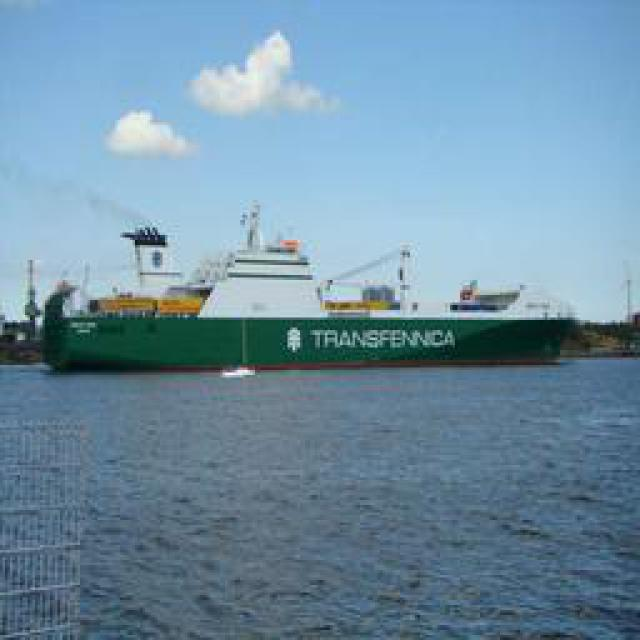Ship: (40, 245, 583, 370)
